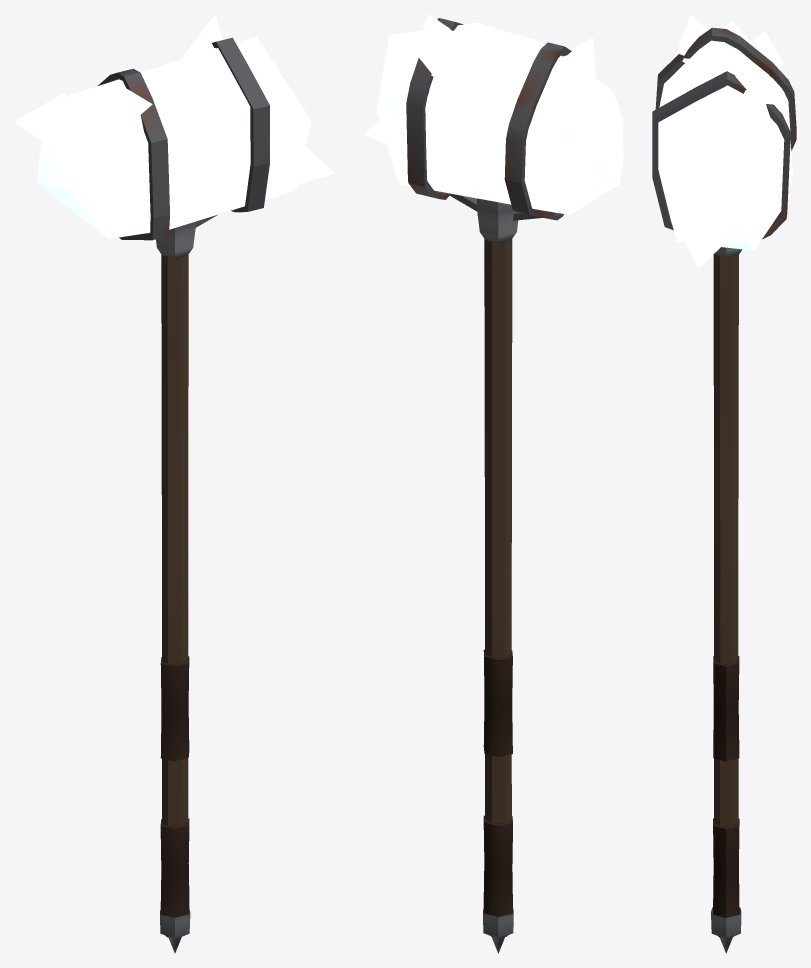
File: hammer_colossus.glb
The picture shows the model from 3 angles, left to right: view 1: azimuth 30°, elevation 25°; view 2: azimuth 150°, elevation 25°; view 3: azimuth 270°, elevation 25°; orthographic projection. The views are drawn at different scales.
Visible parts, largest first — view 1: hammer_colossus; view 2: hammer_colossus; view 3: hammer_colossus.
Part boxes in pixels (box(x1,y1,x2,y2)): hammer_colossus: box(14, 14, 334, 953); hammer_colossus: box(363, 14, 623, 953); hammer_colossus: box(652, 14, 796, 953).
Size of the model in its own units: 0.4912 by 1.5 by 0.2137.
